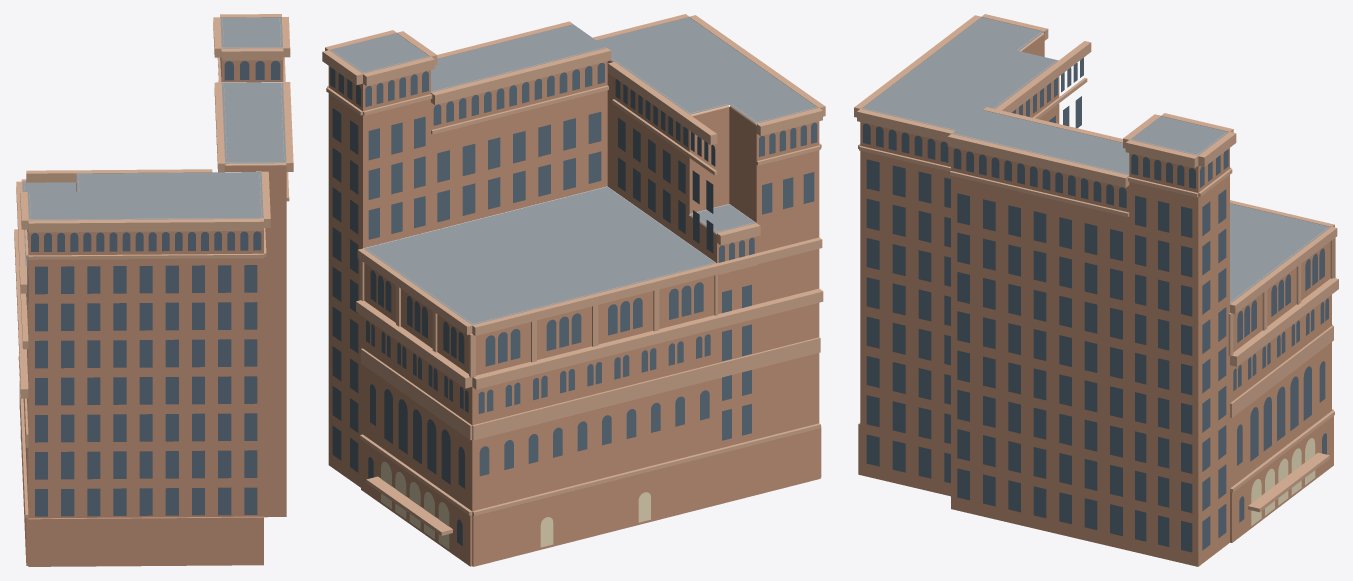
File: detail.glb
3 views of the same model, side by side, from view 1: azimuth 30°, elevation 25°; view 2: azimuth 150°, elevation 25°; view 3: azimuth 270°, elevation 25° (orthographic). The views are drawn at different scales.
Parts seen in each view (by area): view 1: carnegie-hall; view 2: carnegie-hall; view 3: carnegie-hall.
Boxes of the visible parts, box(x1,y1,x2,y2) form: carnegie-hall: box(14, 14, 293, 566); carnegie-hall: box(322, 14, 825, 566); carnegie-hall: box(854, 14, 1338, 566).
Bounding box in the file's own units: 68.32 × 69 × 73.79.
